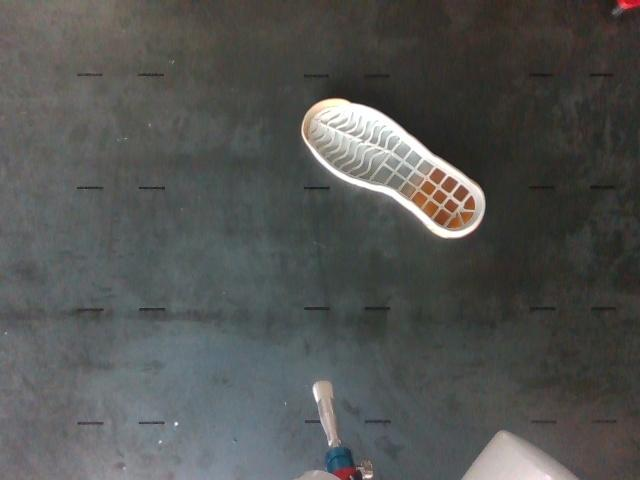shoes: (304, 100, 482, 232)
